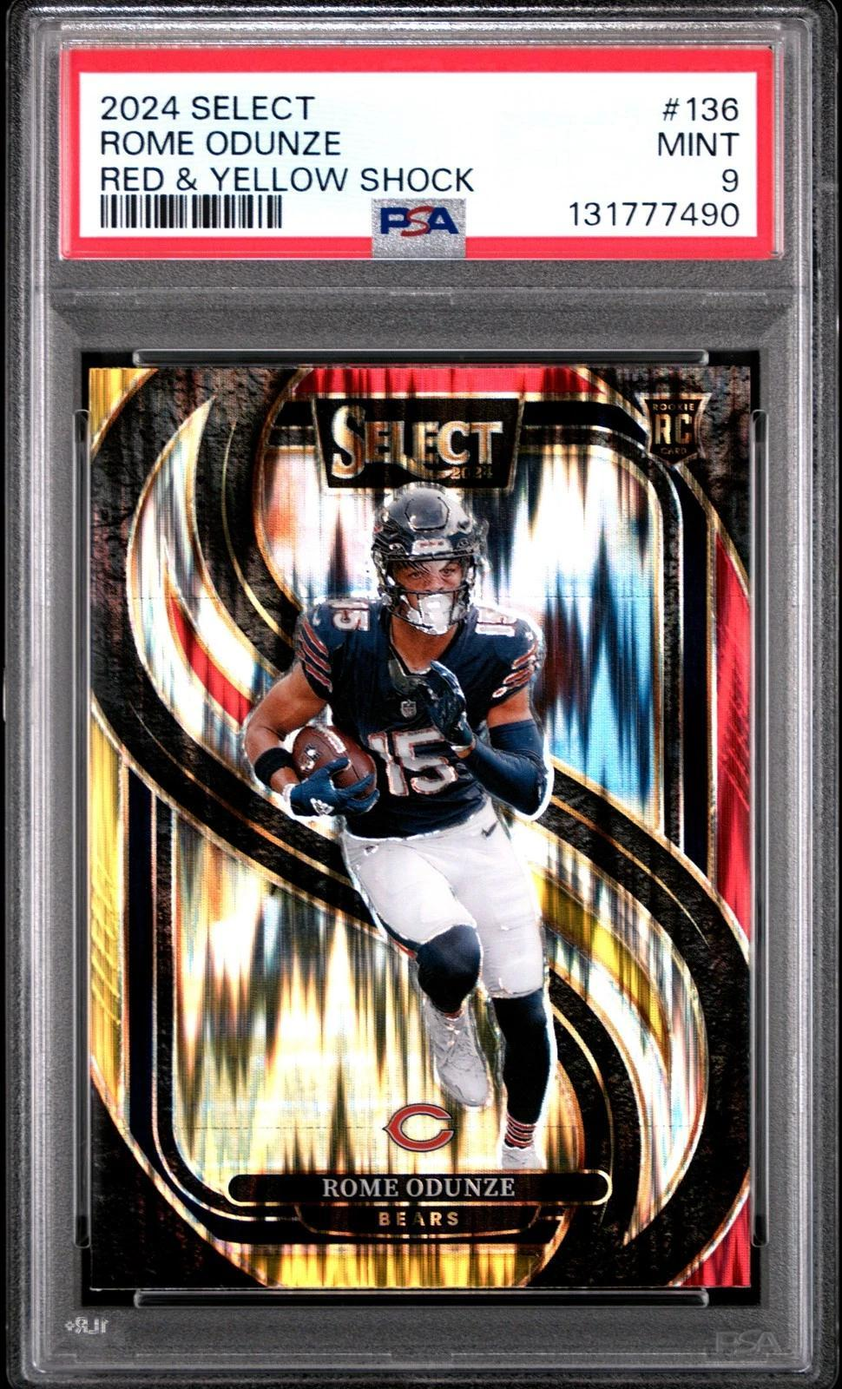card-2UtV: (88, 365, 752, 1292)
